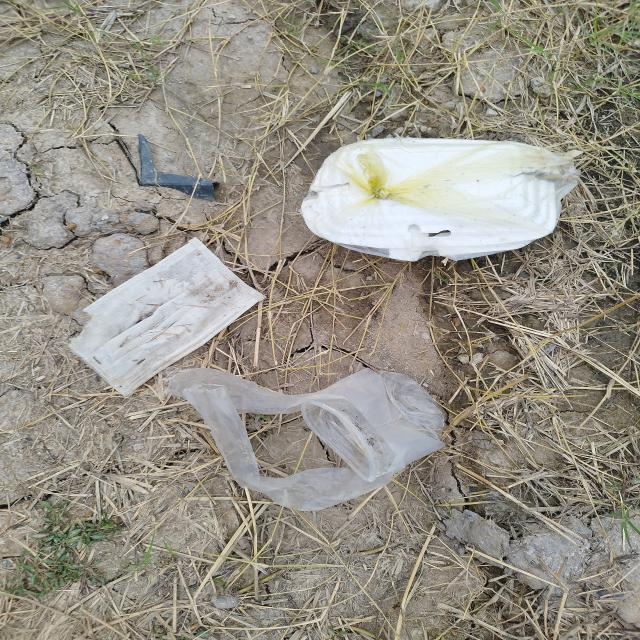bag: (164, 367, 448, 512)
foam box: (297, 136, 558, 265)
mask: (74, 238, 271, 396)
